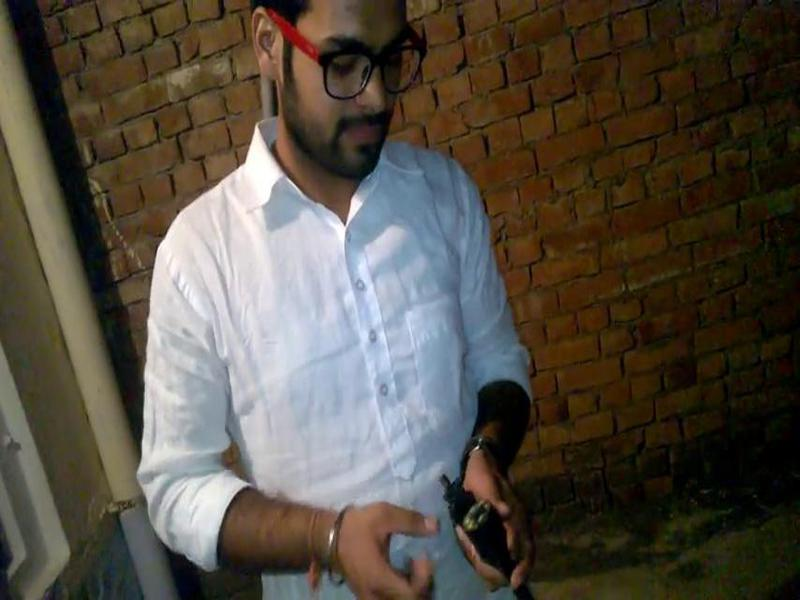Revolver: (407, 455, 553, 600)
